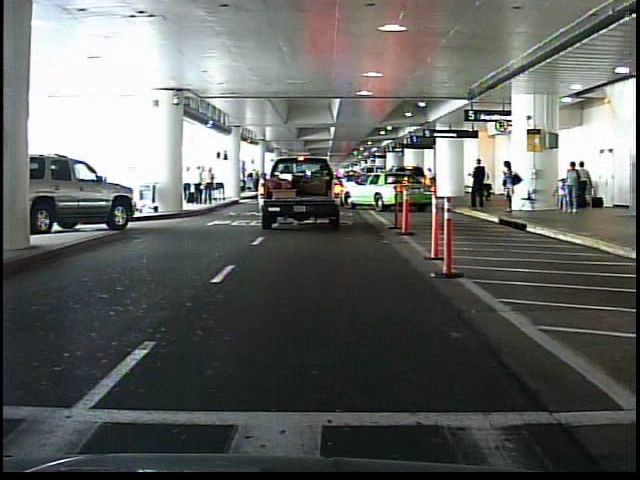person: (501, 155, 522, 216), (468, 154, 488, 211), (483, 159, 496, 209)
